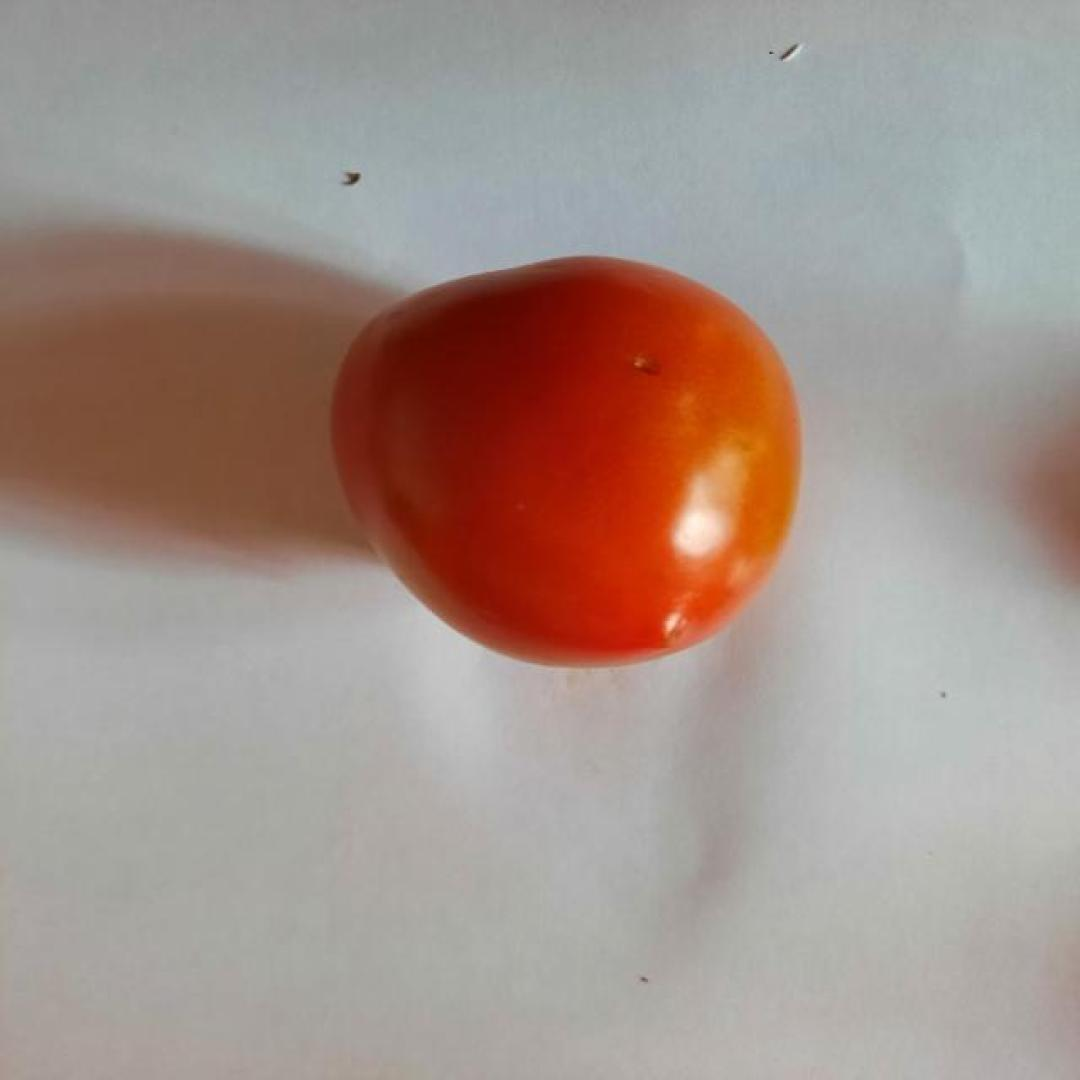matang: (326, 253, 803, 673)
